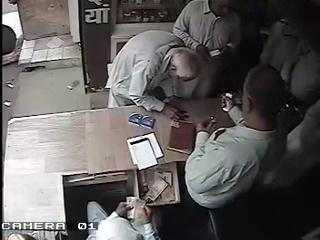Normal: (183, 65, 294, 240), (105, 30, 207, 112), (172, 0, 243, 96), (87, 199, 161, 240)
